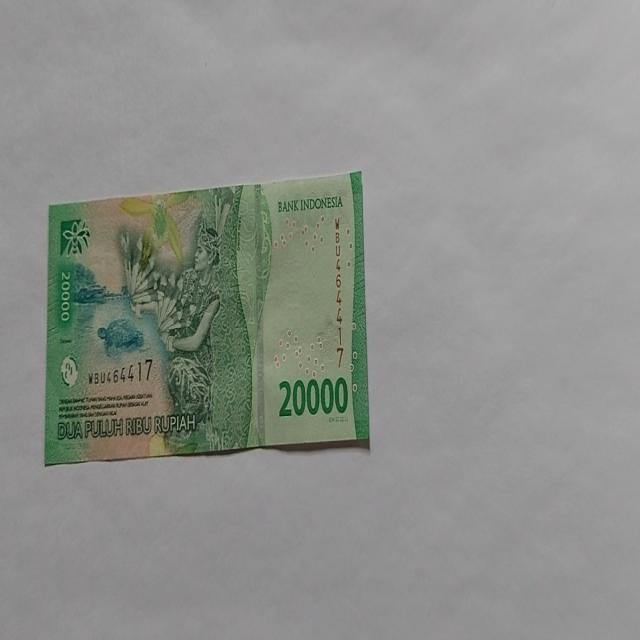dua puluh ribu rupiah: (43, 169, 370, 465)
